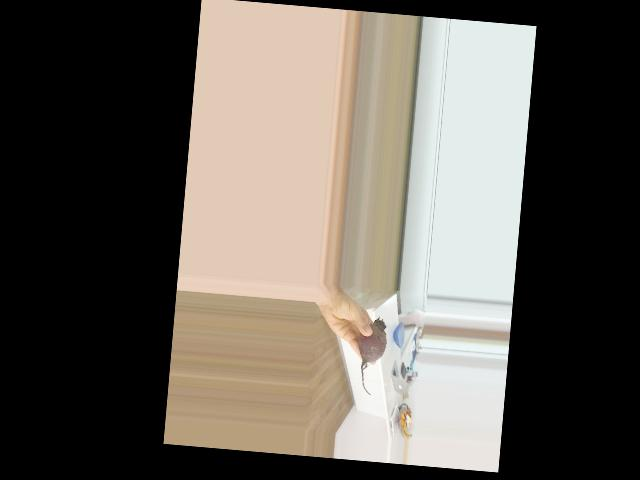beet: (354, 316, 388, 396)
